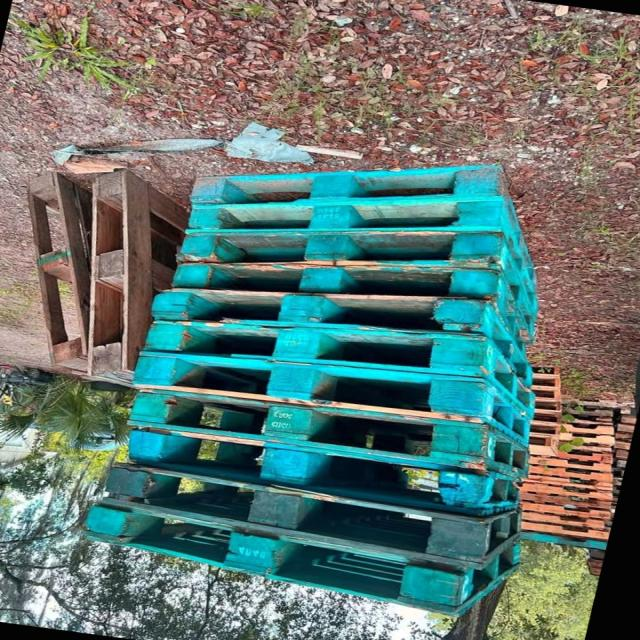non-igps: (71, 492, 485, 632), (94, 451, 495, 581), (119, 379, 506, 481), (121, 419, 499, 520), (122, 347, 500, 433), (68, 162, 196, 394), (130, 314, 499, 386), (509, 392, 640, 553), (164, 251, 504, 312), (148, 286, 497, 345), (18, 165, 106, 392), (185, 158, 510, 211), (171, 231, 516, 274), (180, 198, 514, 242), (512, 524, 610, 552), (514, 488, 615, 512), (515, 498, 615, 522), (513, 519, 612, 542), (516, 481, 615, 504), (520, 471, 616, 494), (516, 508, 607, 532), (524, 452, 615, 475), (522, 461, 616, 483), (555, 428, 617, 449), (560, 400, 616, 421), (557, 420, 617, 439), (552, 448, 615, 466), (557, 411, 616, 430), (553, 439, 615, 456), (526, 433, 561, 458), (527, 373, 564, 391), (525, 421, 564, 438), (531, 396, 564, 414), (525, 363, 562, 379), (527, 409, 564, 424), (528, 386, 564, 400)
